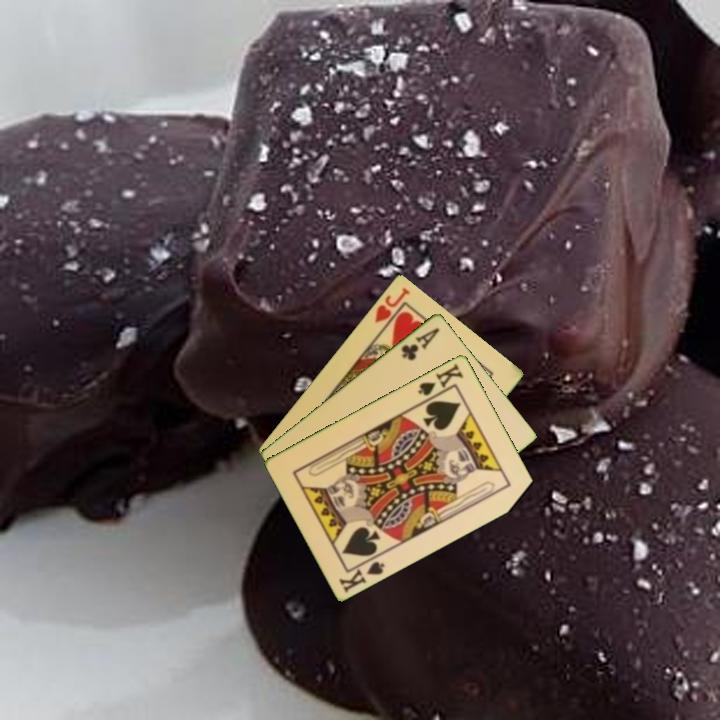Ac: (397, 324, 443, 363)
Jh: (371, 283, 413, 325)
Ks: (335, 551, 388, 595), (414, 360, 466, 398)
